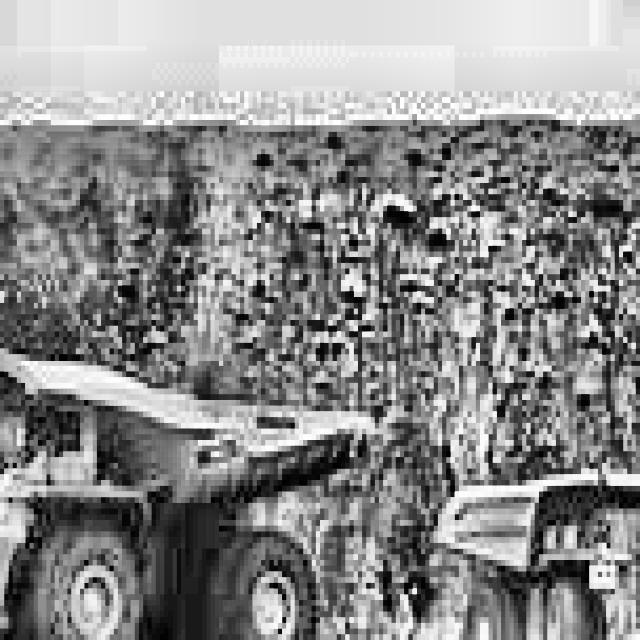dump_truck: (0, 320, 375, 640), (429, 451, 640, 640)
